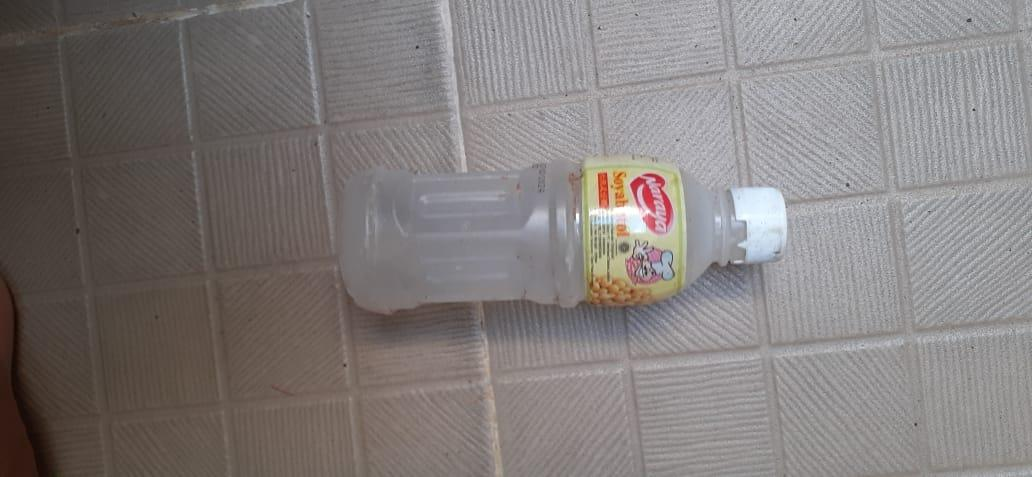Plastik: (341, 152, 788, 313)
